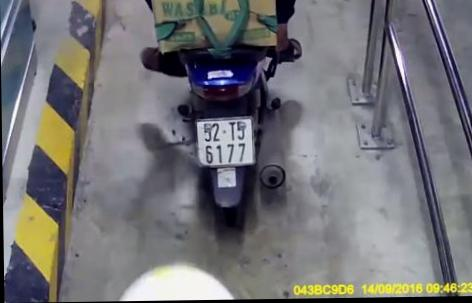License_Plate: (188, 112, 263, 173)
